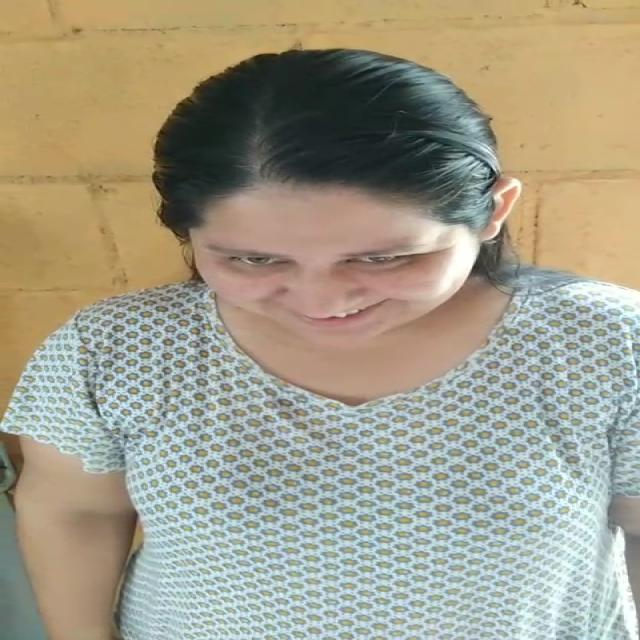9_cabeza_baja: (151, 48, 517, 345)
